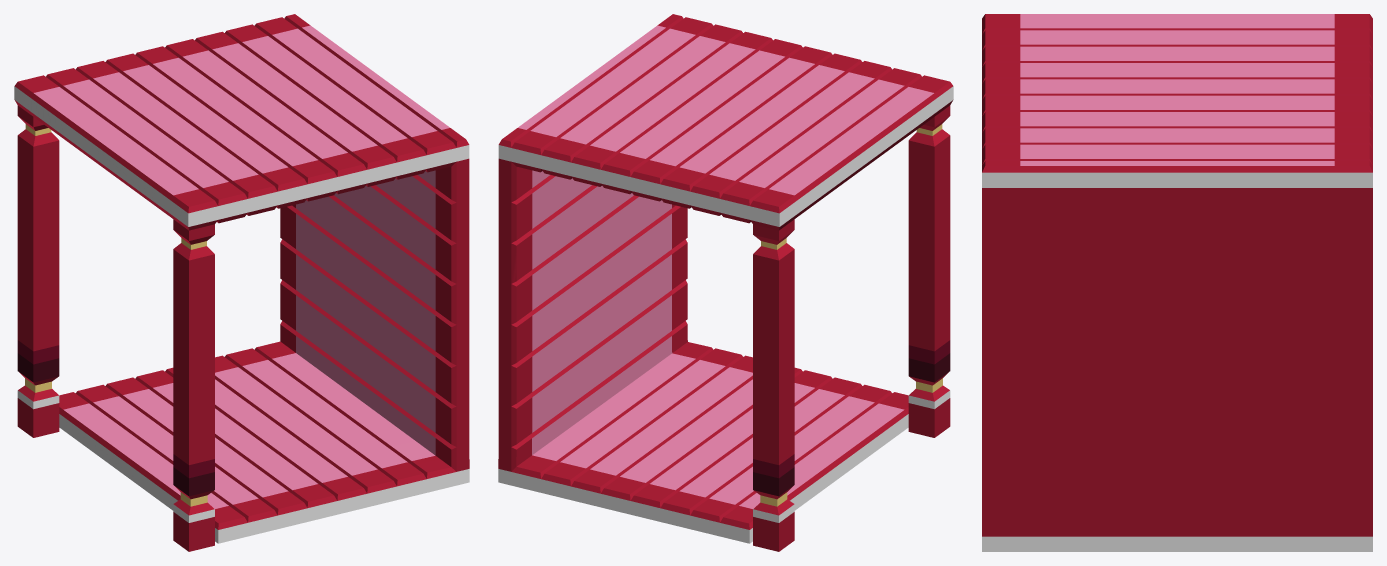
Rendered from JungJa.fbx.
3 renders of one model, left to right at view 1: azimuth 30°, elevation 25°; view 2: azimuth 150°, elevation 25°; view 3: azimuth 270°, elevation 25°, orthographic. The views are drawn at different scales.
Visible parts, largest first — view 1: JungJa; view 2: JungJa; view 3: JungJa.
Part boxes in pixels (x1,y1,x2,y2): JungJa: (14, 14, 469, 551); JungJa: (498, 14, 953, 551); JungJa: (982, 14, 1372, 551).
Bounding box in the file's own units: 1.18 × 1.39 × 1.27.
